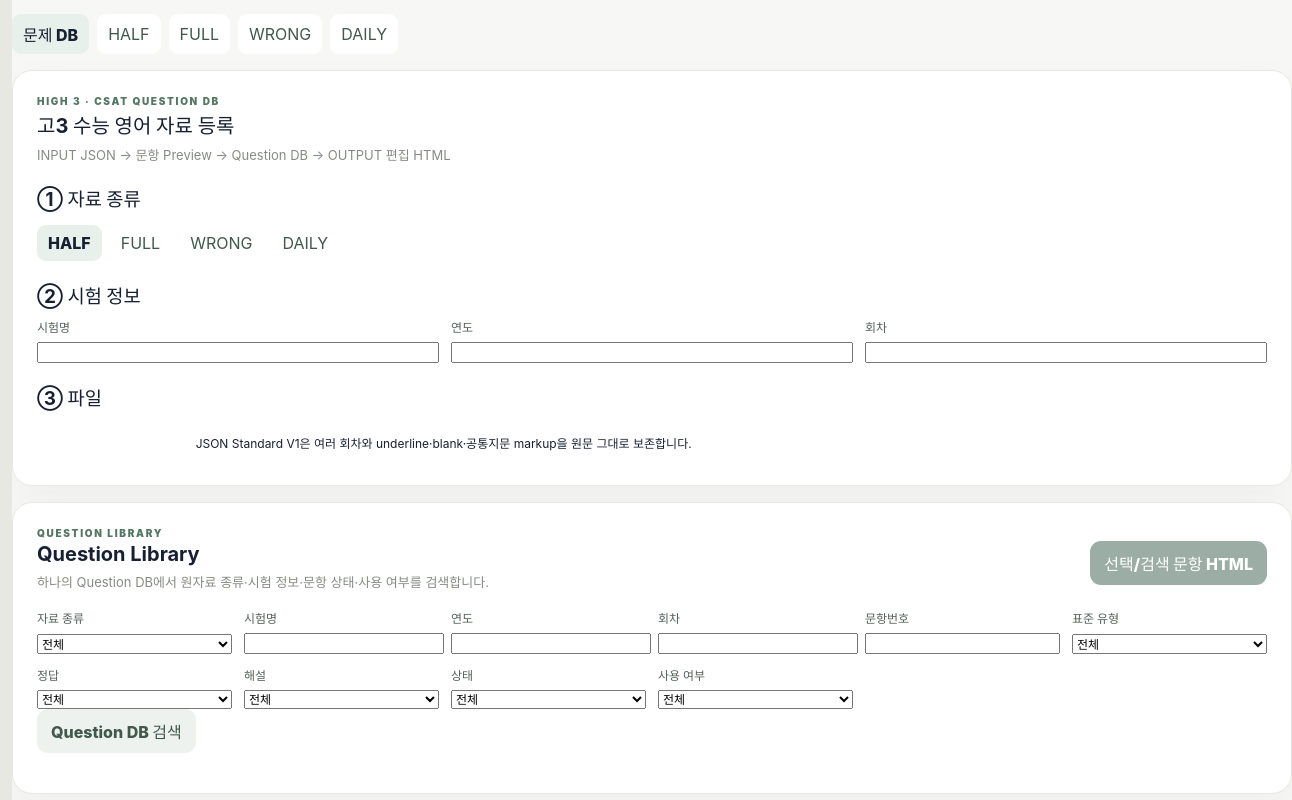
Test: 내신 Wiki V1.1 시나리오 홈 › WRONG 탭은 Question ID가 연결된 기존 오답만 Assessment 대상으로 선택한다
Click the 1st button "WRONG" at [280, 34], box [238,14,322,54]
(page scrolled)
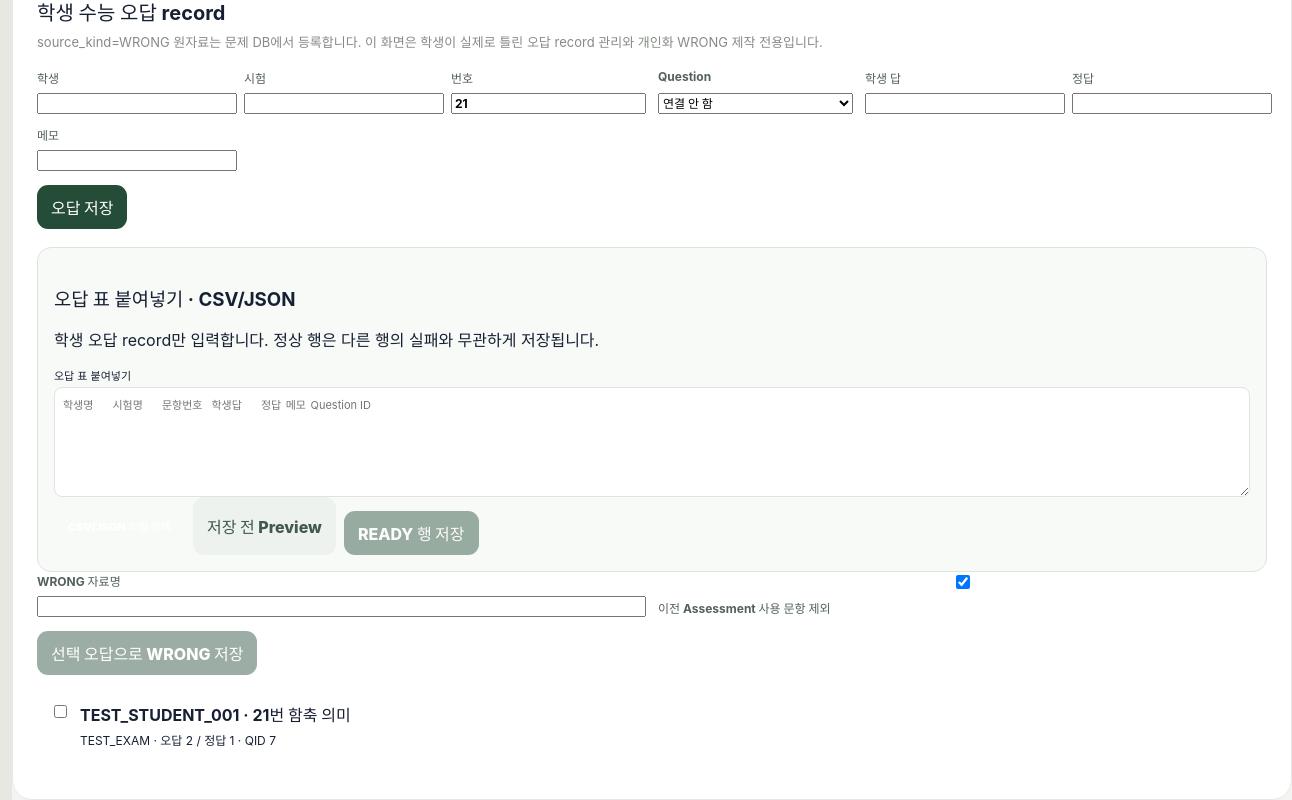
Click the 2nd checkbox at [60, 712], box [54,705,67,718]
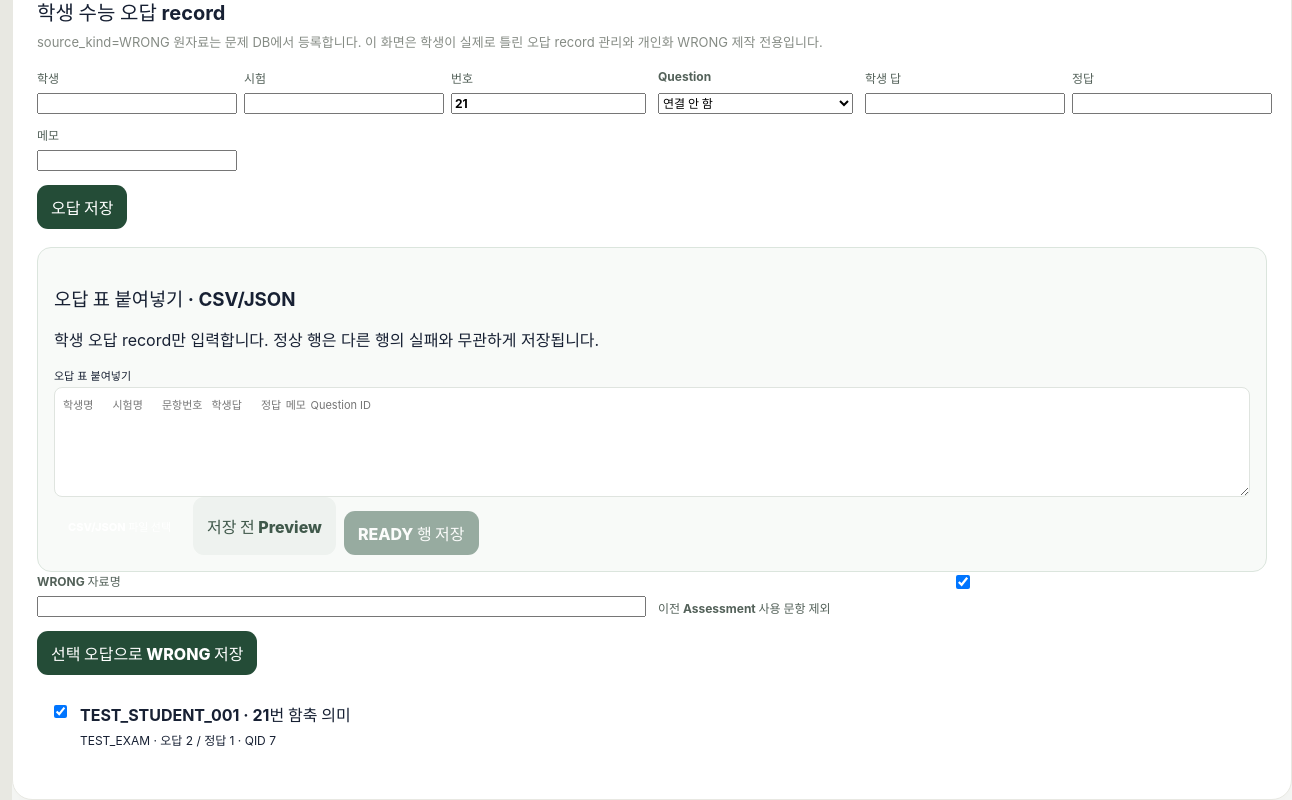
Now the button "선택 오답으로 WRONG 저장" is enabled, box [37,631,258,675]
